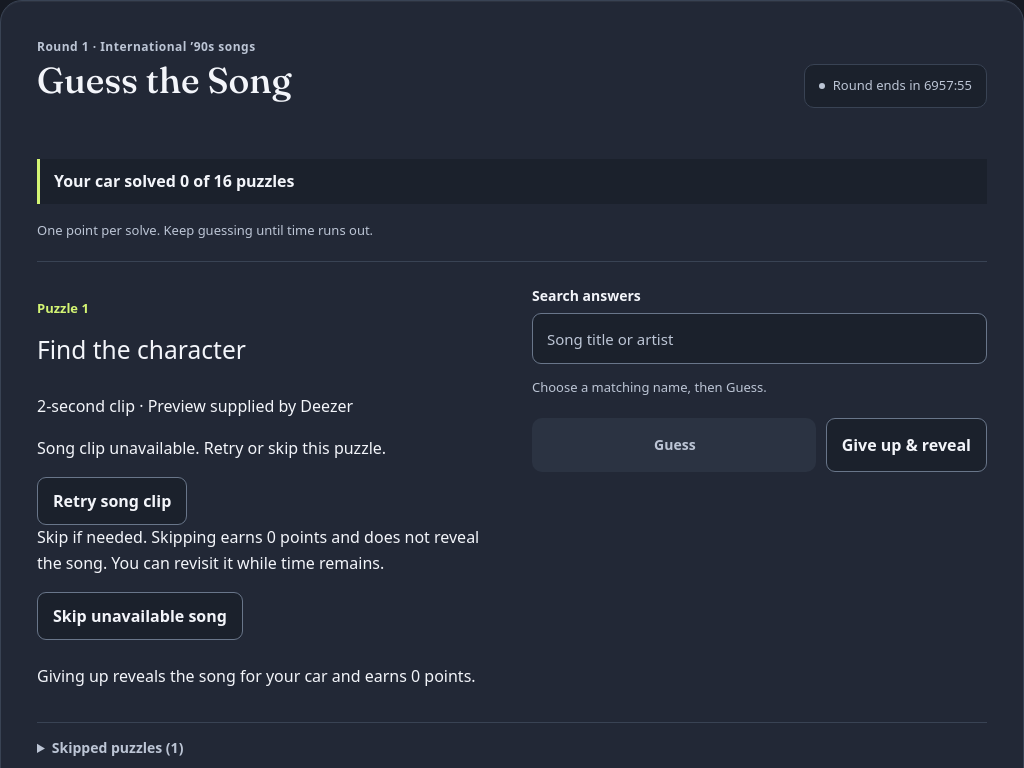
lets passengers retry a failed song clip without losing the puzzle
Expected: the message "Song clip unavailable. Retry or skip this puzzle." is shown, [37,436,386,458]
Click the button "Retry song clip": (112, 501) [37,477,187,525]
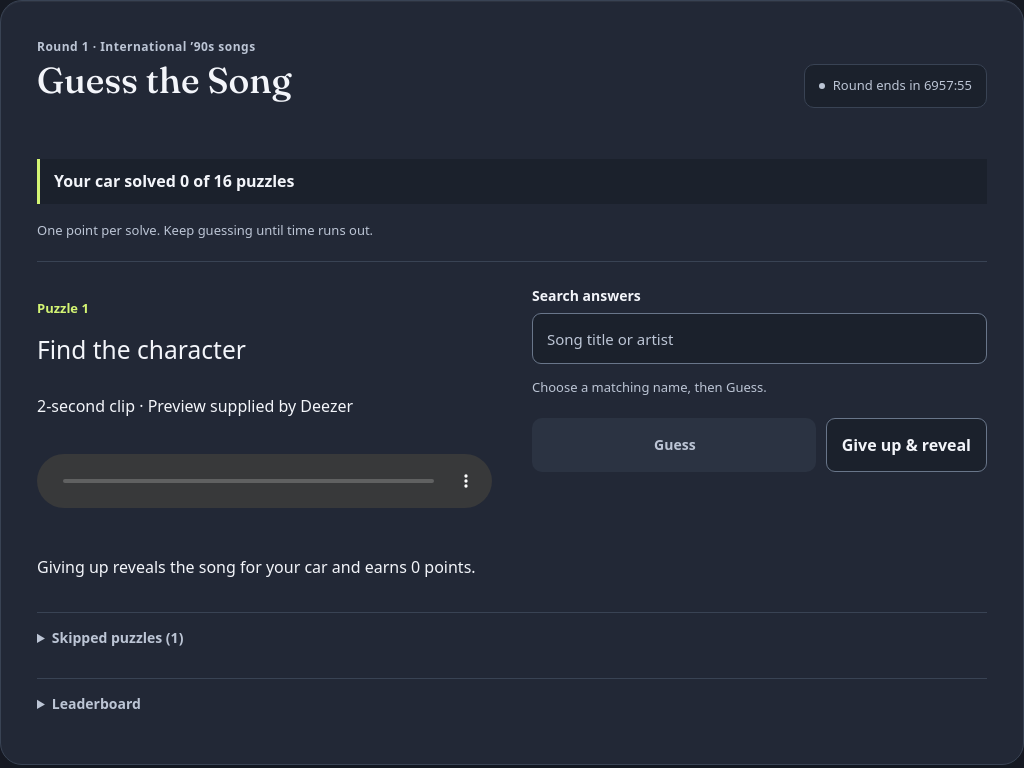
Expected: the button "Give up & reveal" is shown, [826,418,987,472]
Now the text "Your browser cannot play this clip." is shown, box [37,454,492,508]
